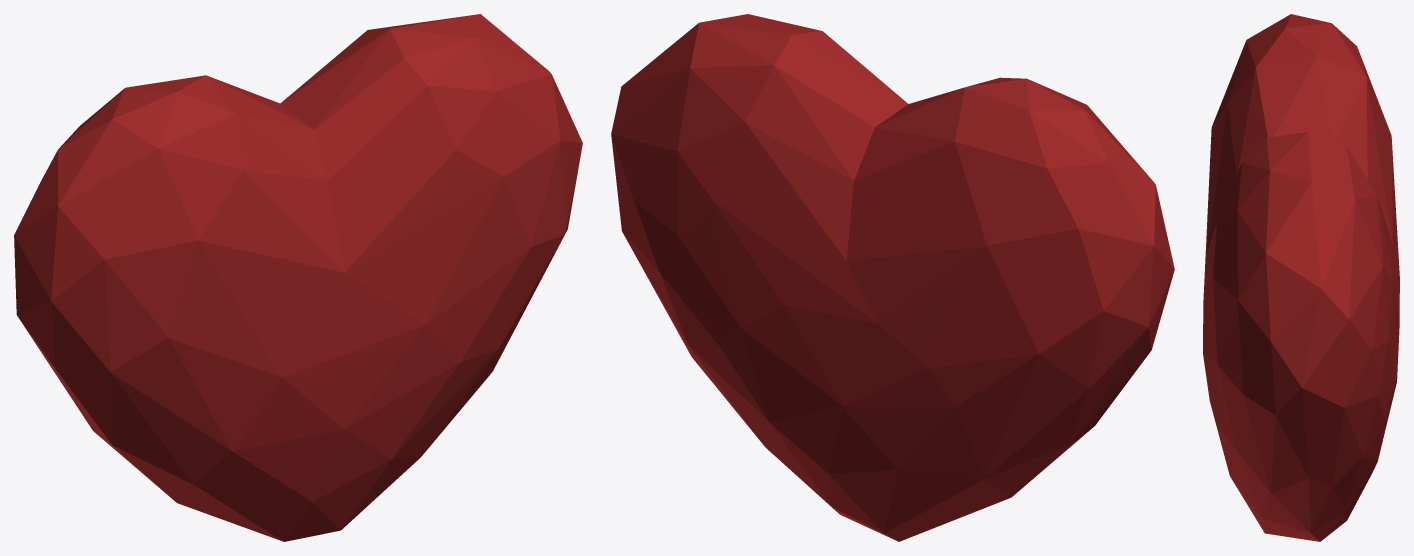
Rendered from Heart.fbx.
3 renders of one model, left to right at view 1: azimuth 30°, elevation 25°; view 2: azimuth 150°, elevation 25°; view 3: azimuth 270°, elevation 25°, orthographic. The views are drawn at different scales.
Visible parts, largest first — view 1: Heart; view 2: Heart; view 3: Heart.
Boxes of the visible parts, bbox=[...] form: Heart: bbox=[14, 14, 582, 541]; Heart: bbox=[611, 14, 1174, 541]; Heart: bbox=[1203, 14, 1399, 541].
Size of the model in its own units: 352 by 294 by 117.
